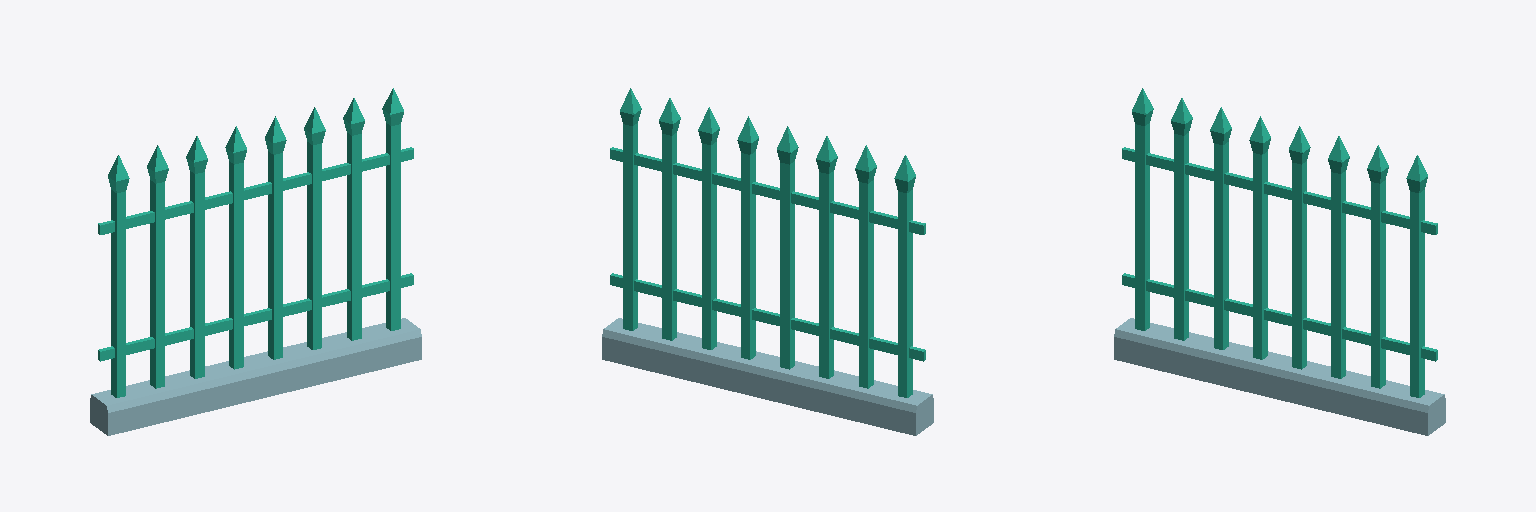
The model's file is ironFenceBorder.obj.
3 renders of one model, left to right at view 1: azimuth 30°, elevation 25°; view 2: azimuth 150°, elevation 25°; view 3: azimuth 330°, elevation 25°, orthographic.
Parts seen in each view (by area): view 1: ironFenceBorder; view 2: ironFenceBorder; view 3: ironFenceBorder.
Part boxes in pixels (left/top/right/bottom): ironFenceBorder: left=90, top=88, right=421, bottom=435; ironFenceBorder: left=602, top=88, right=933, bottom=435; ironFenceBorder: left=1114, top=88, right=1445, bottom=435.
Size of the model in its own units: 1 by 0.8239 by 0.1.